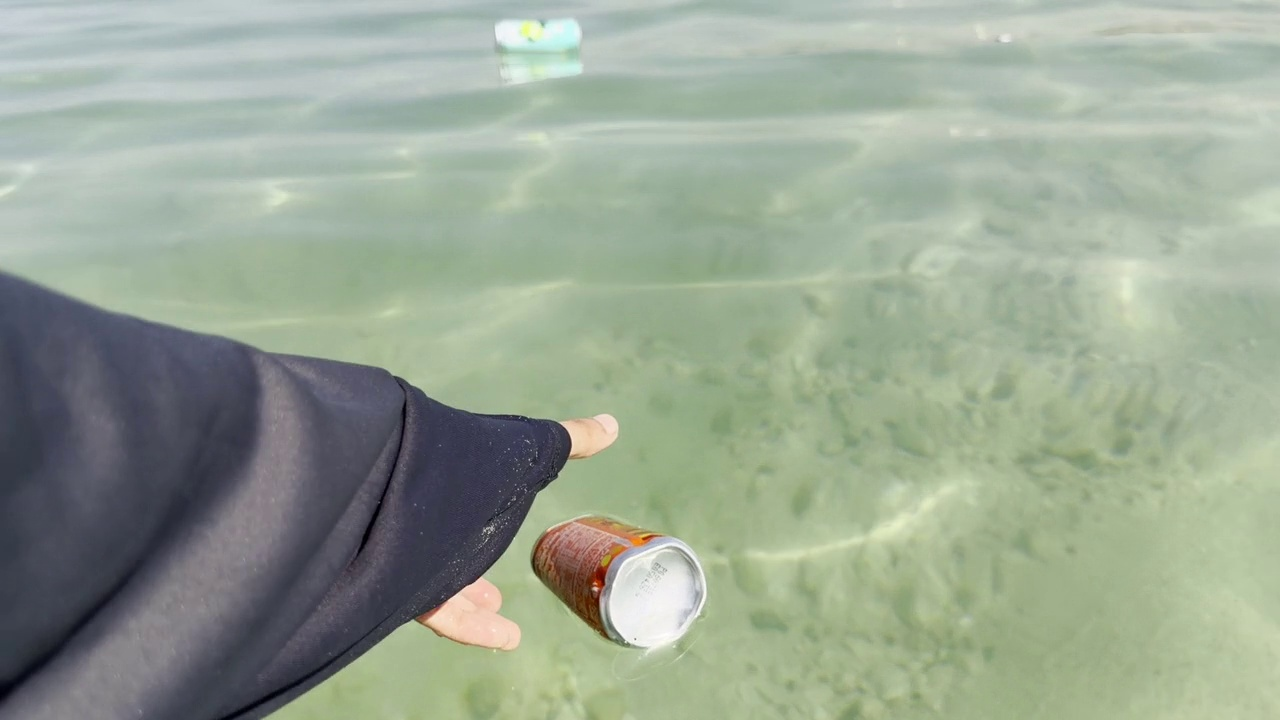debris: (528, 493, 711, 662), (486, 9, 590, 59)
